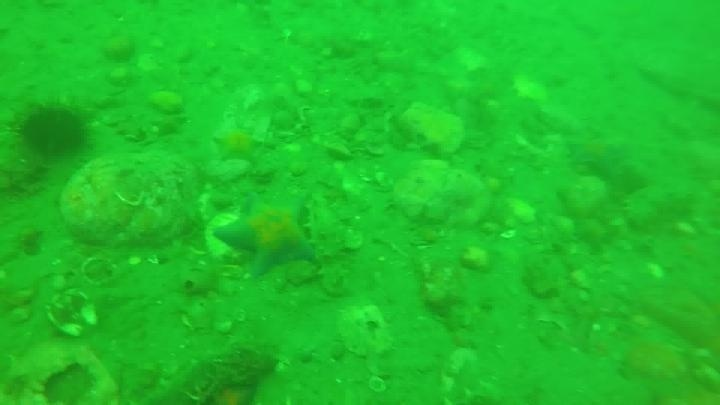echinus: (14, 102, 92, 160)
holothurian: (302, 191, 355, 298)
starfish: (212, 192, 319, 279), (566, 134, 625, 181), (211, 121, 264, 165), (570, 215, 618, 253)
